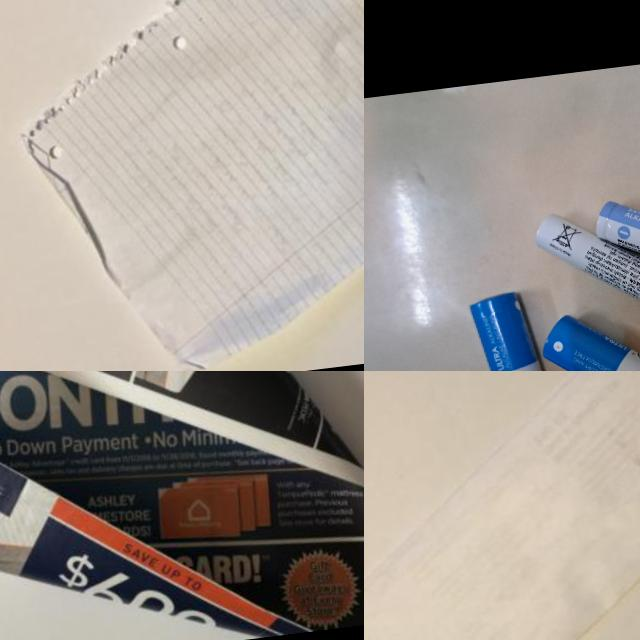bateria: (532, 195, 640, 330), (467, 286, 570, 371), (538, 294, 640, 371), (591, 181, 640, 309)
papel: (0, 0, 364, 371), (0, 371, 364, 640), (364, 371, 640, 640)
